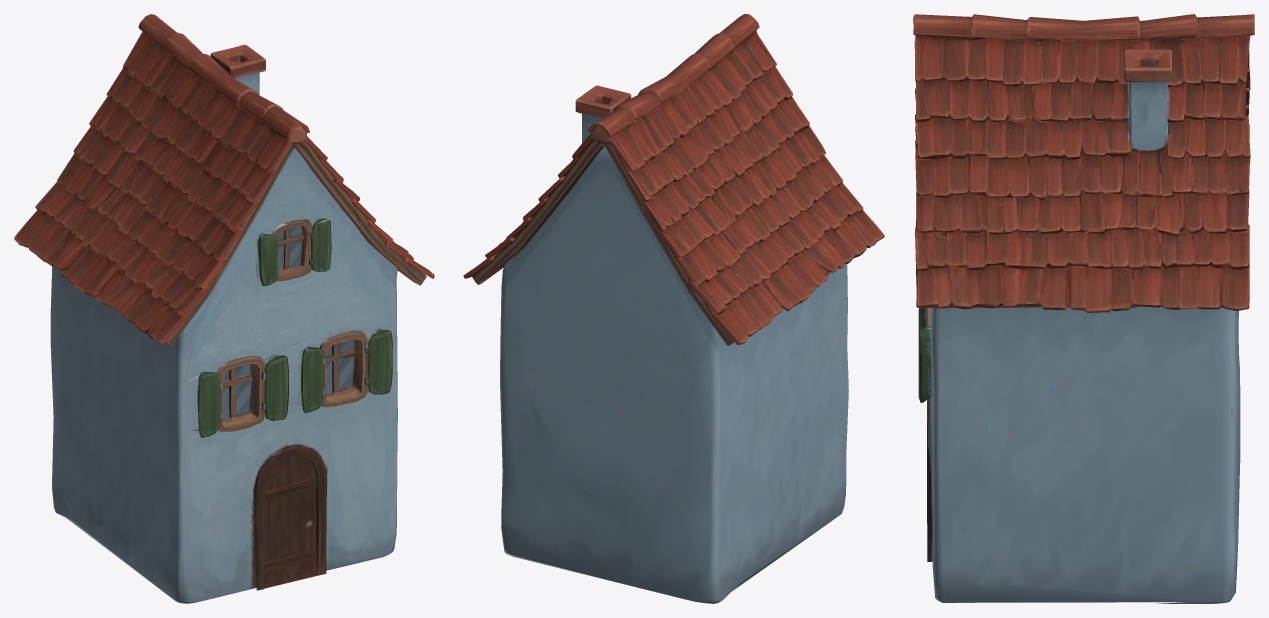
Rendered from houseB.glb.
The picture shows the model from 3 angles, left to right: view 1: azimuth 30°, elevation 25°; view 2: azimuth 150°, elevation 25°; view 3: azimuth 270°, elevation 25°; orthographic projection. The views are drawn at different scales.
Bounding box in the file's own units: 1.2 × 1.9 × 1.11.
1 material, 1 textured.
